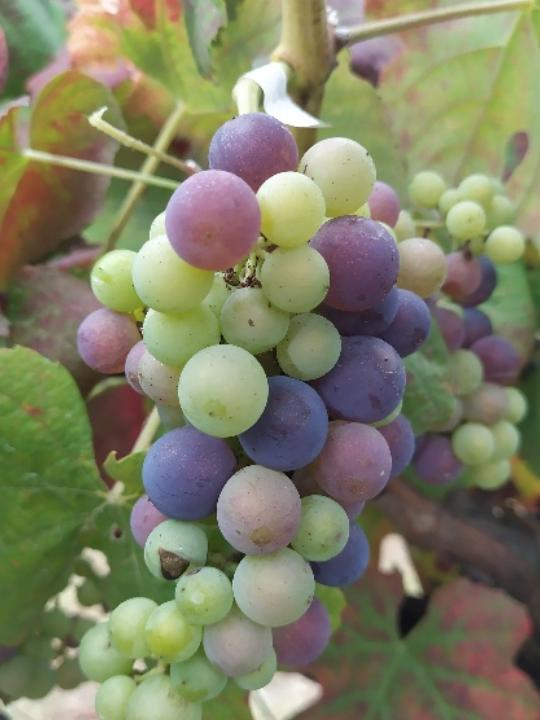grape: (72, 109, 436, 720)
